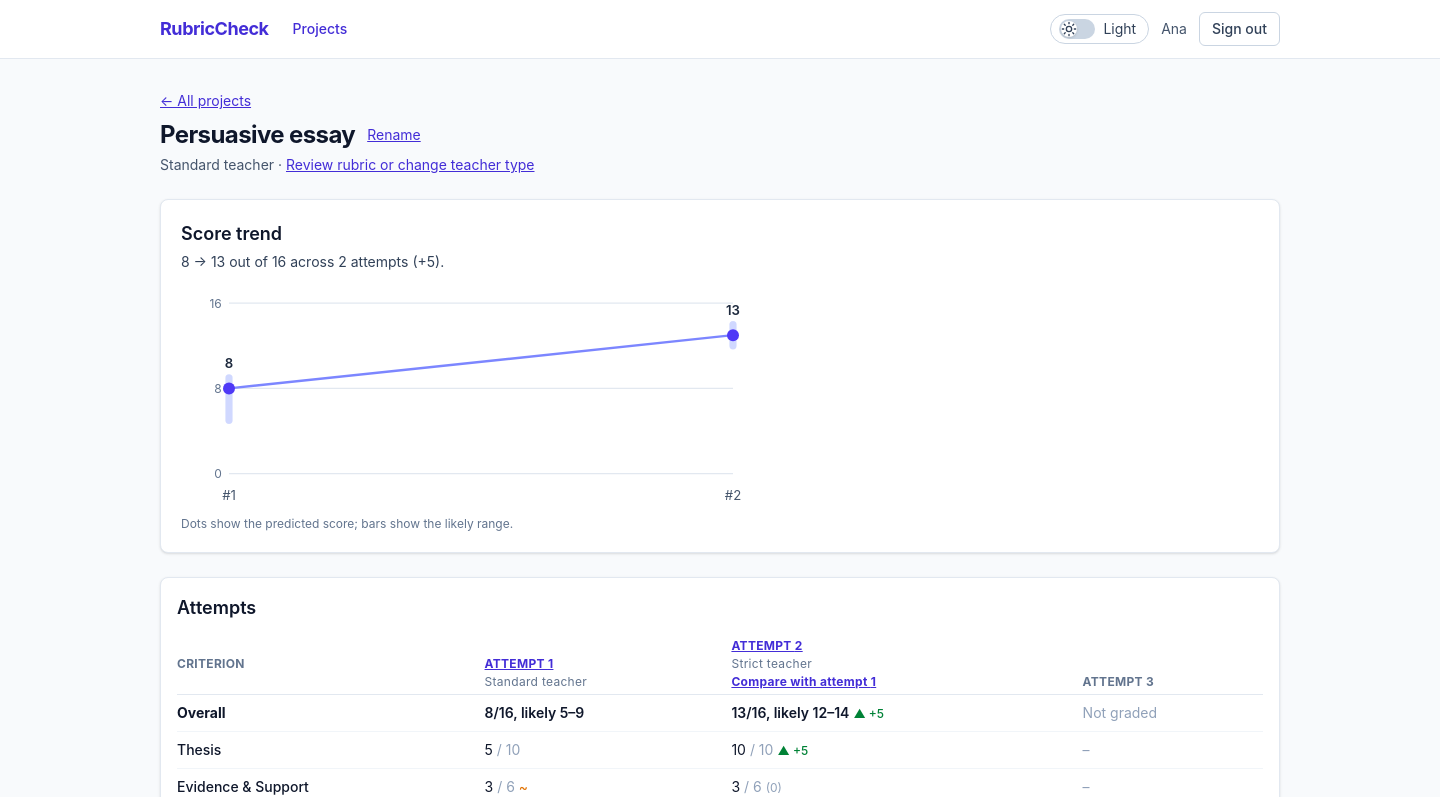
it: a project page › can be renamed
Click the button "Rename" at (394, 135), box [367,125,421,145]
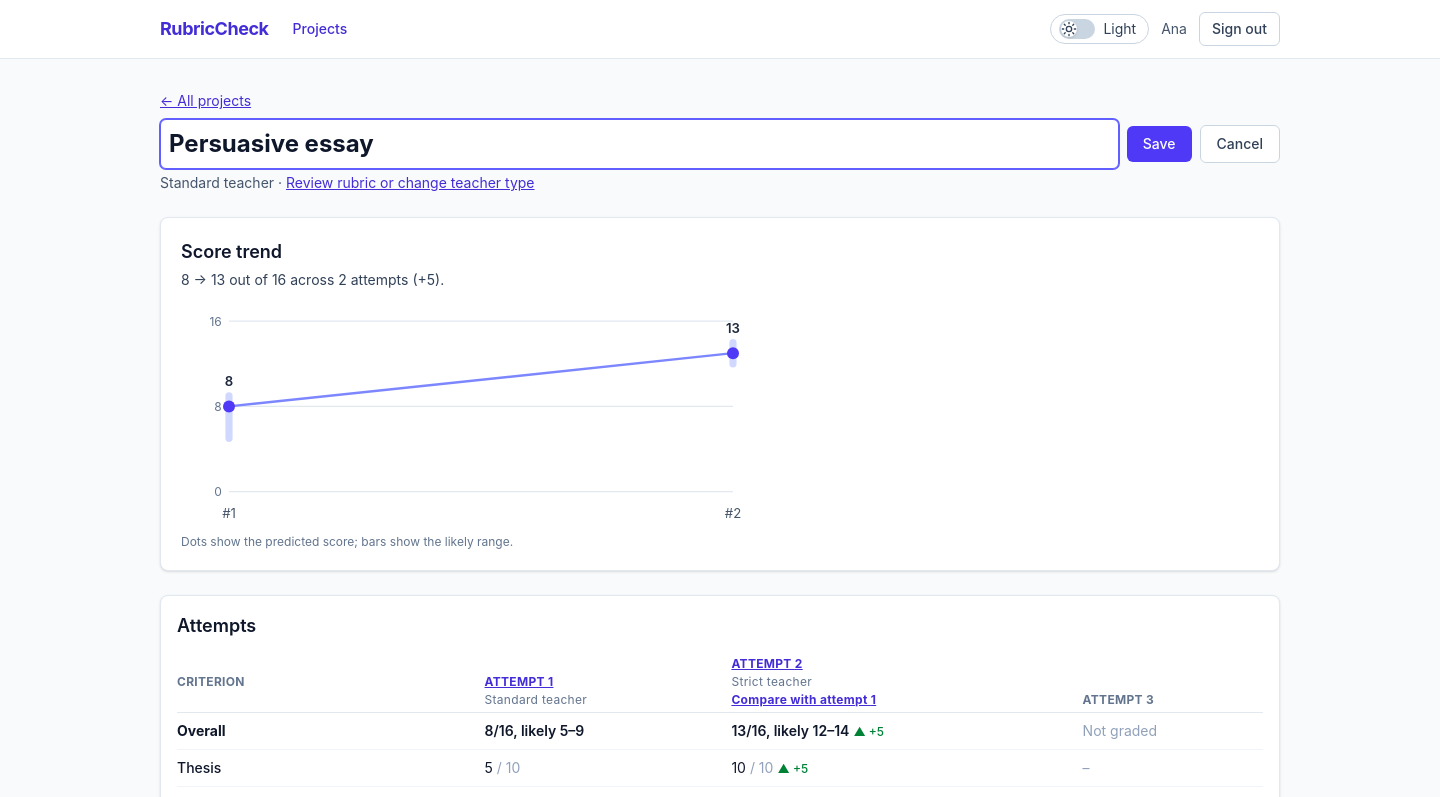
Expected: the field named "Project name" holds "Persuasive essay"
Replace the text in the field named "Project name" with "  Chapter 3 essay  " at (639, 144), box [160,119,1119,169]
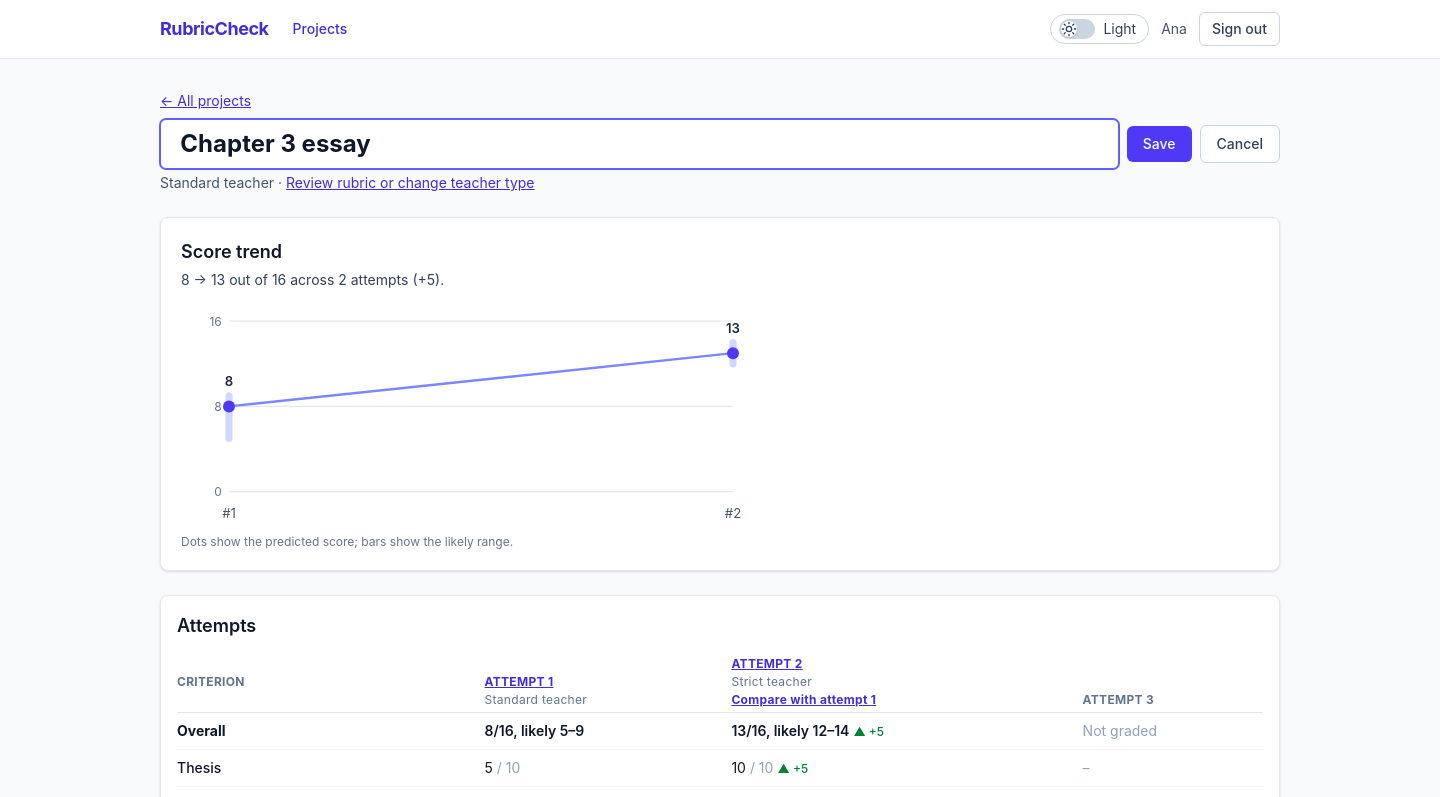
Click the button "Save" at (1159, 144), box [1127,126,1192,162]
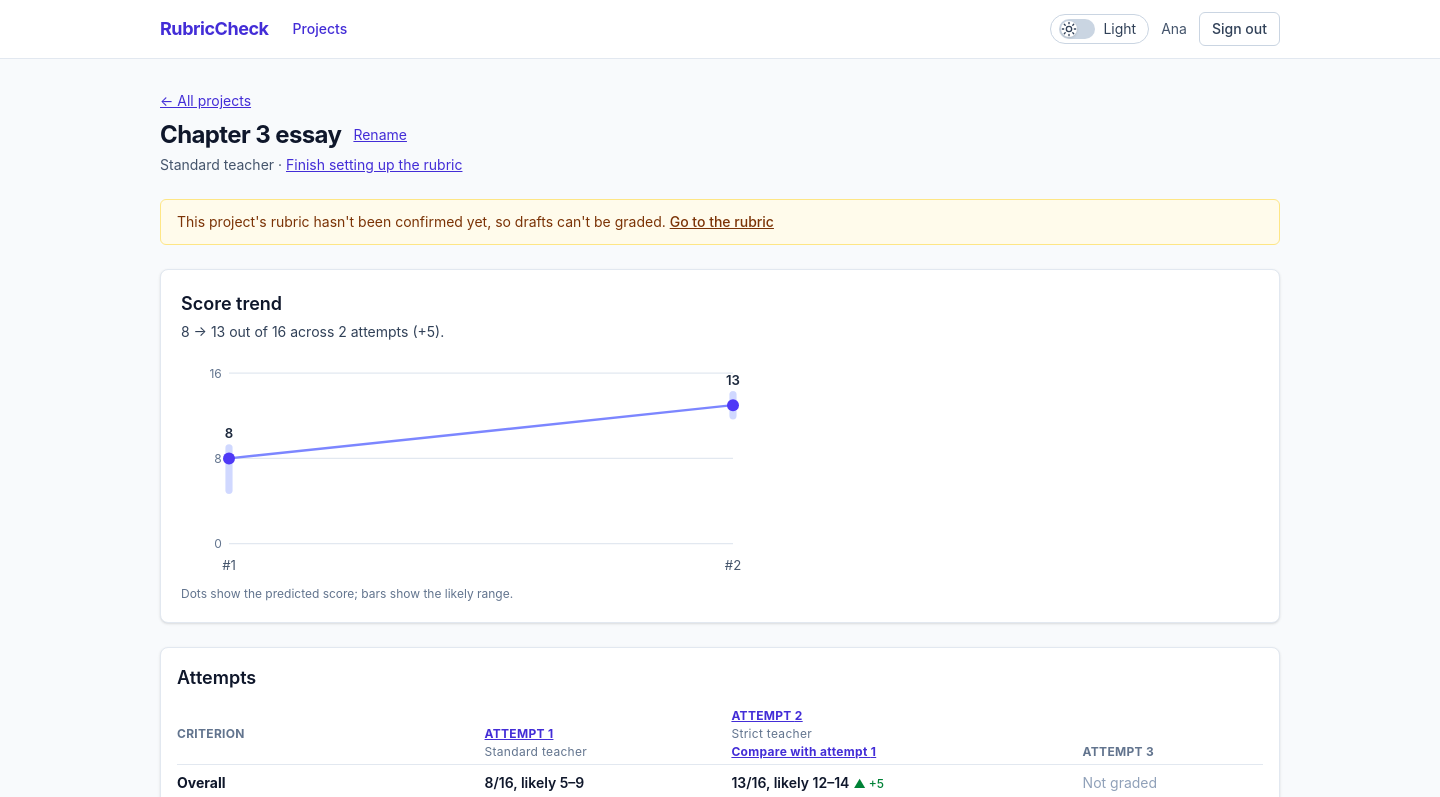
Expected: the field labelled "Project name" is not shown
Expected: the heading "Chapter 3 essay" is shown, [160,119,341,151]
